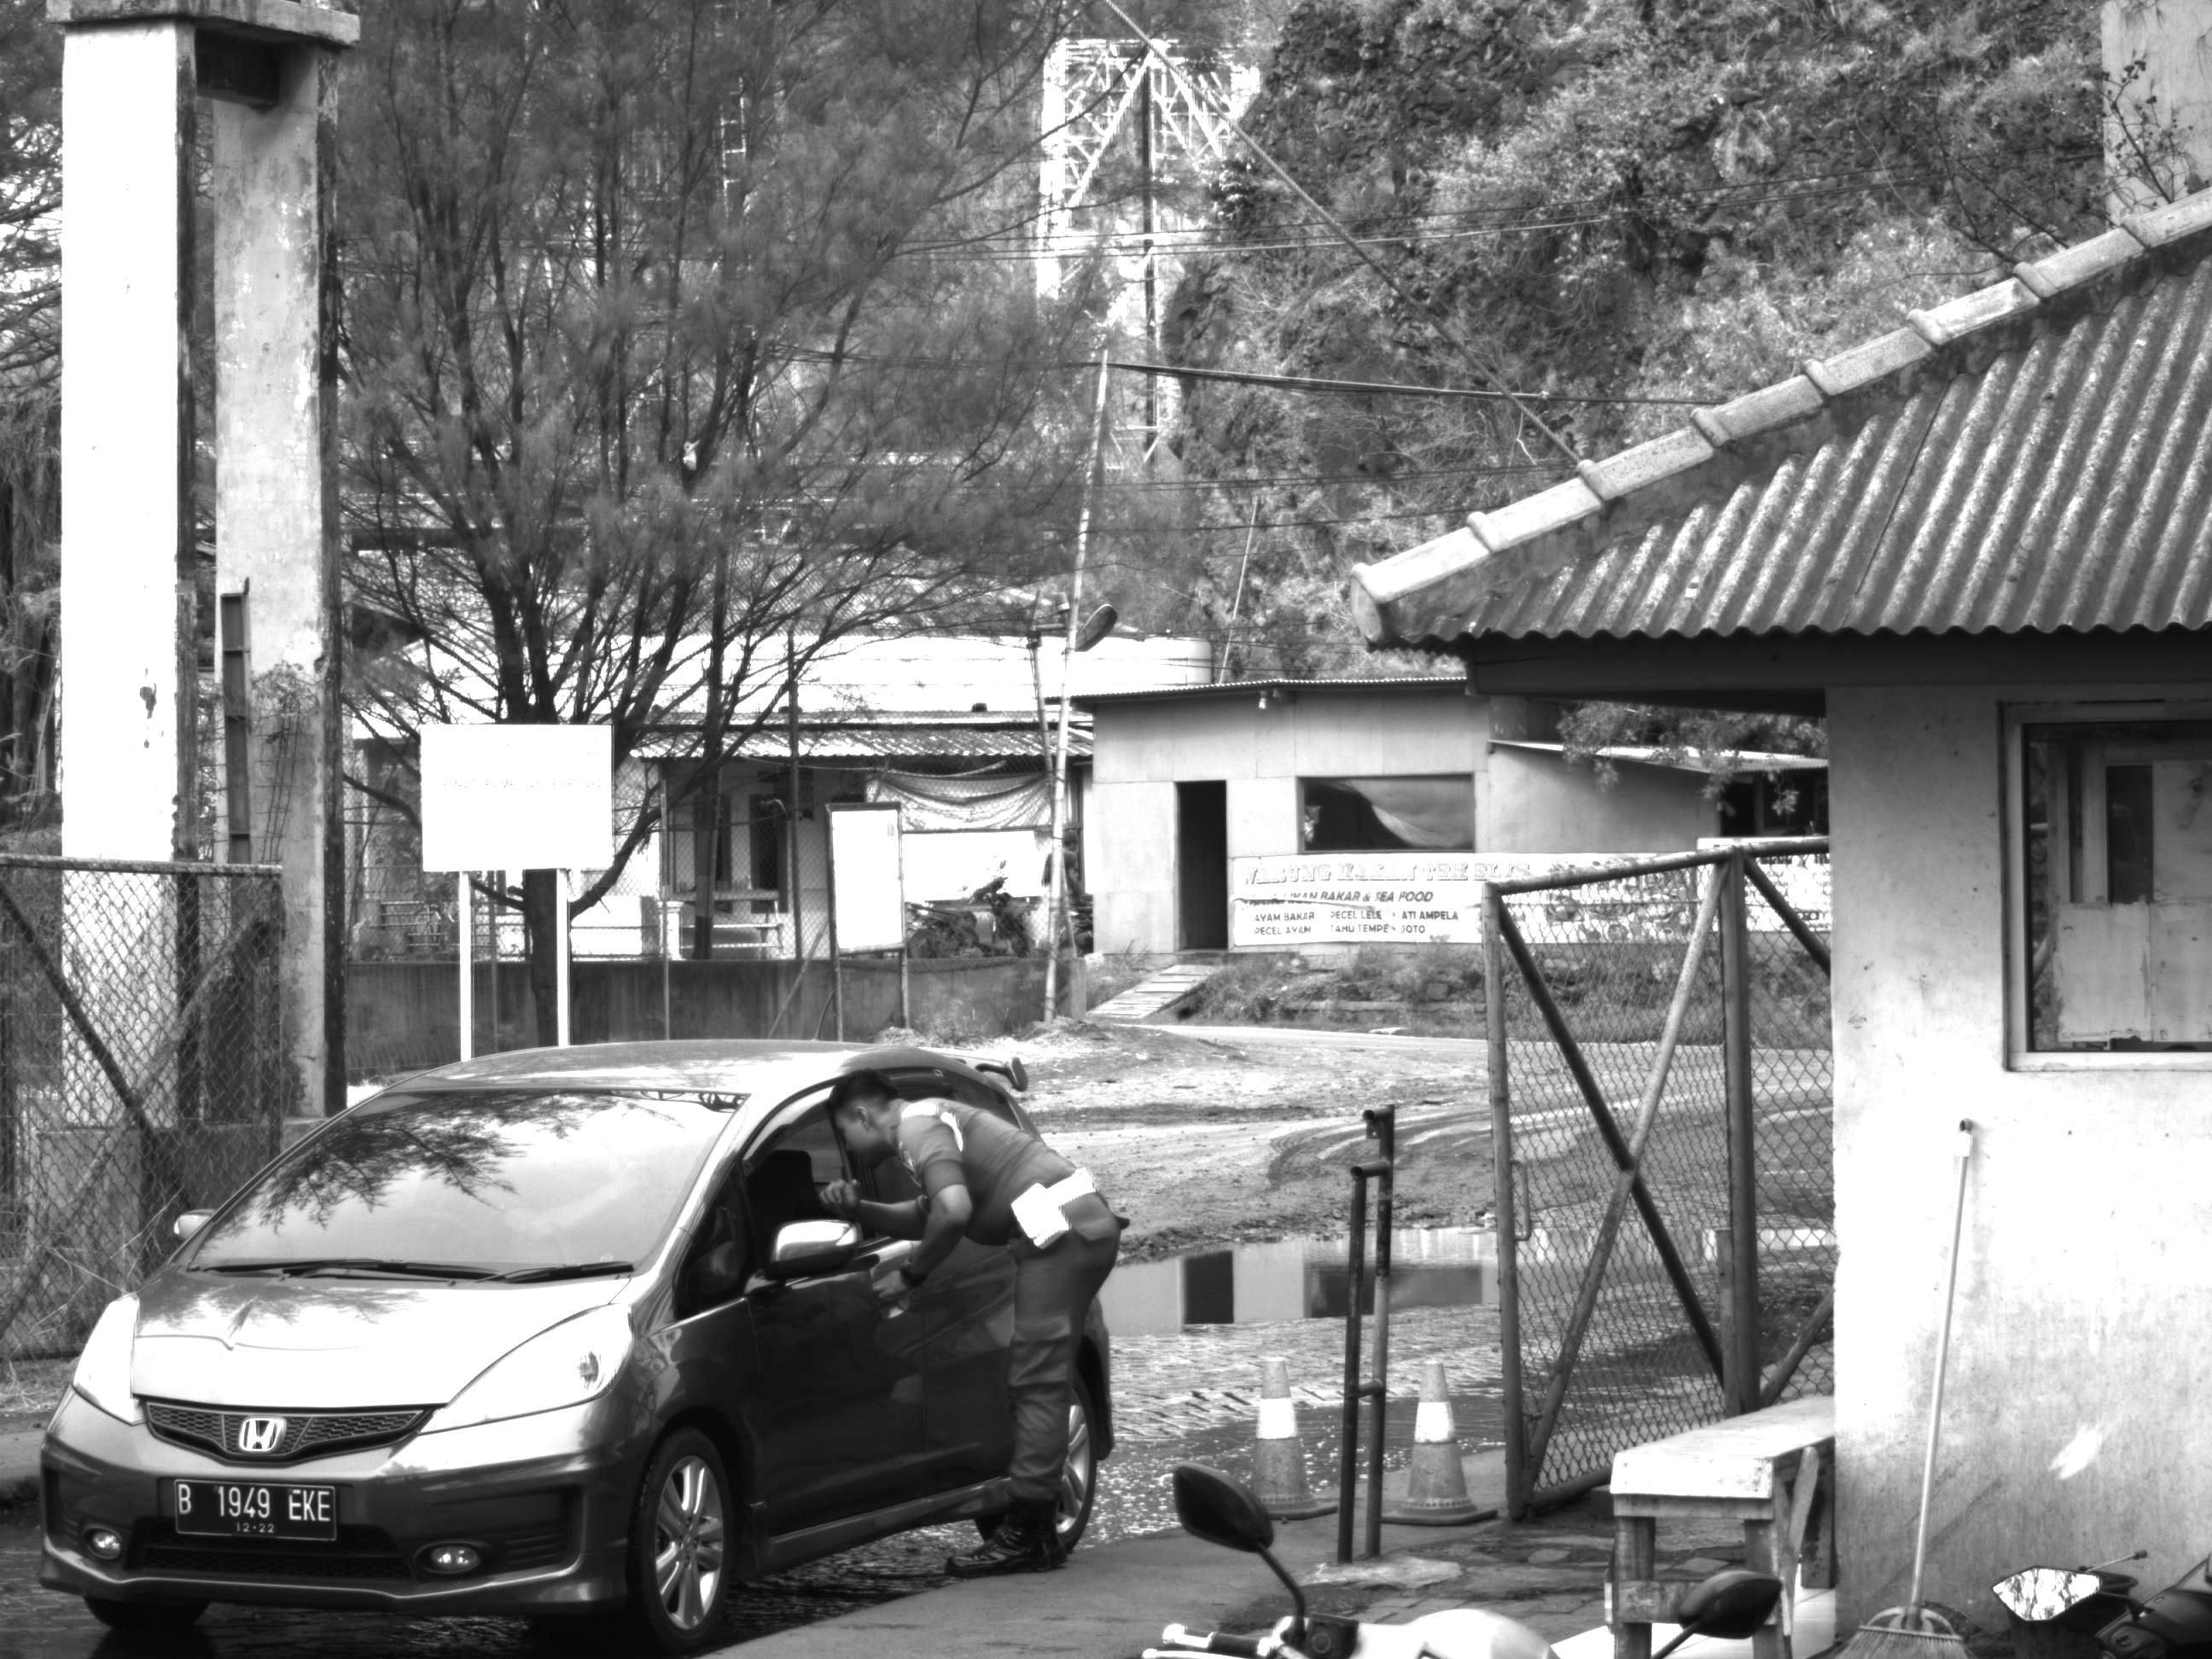day_small_front: (32, 1063, 754, 1659)
plate: (167, 1476, 345, 1550)
